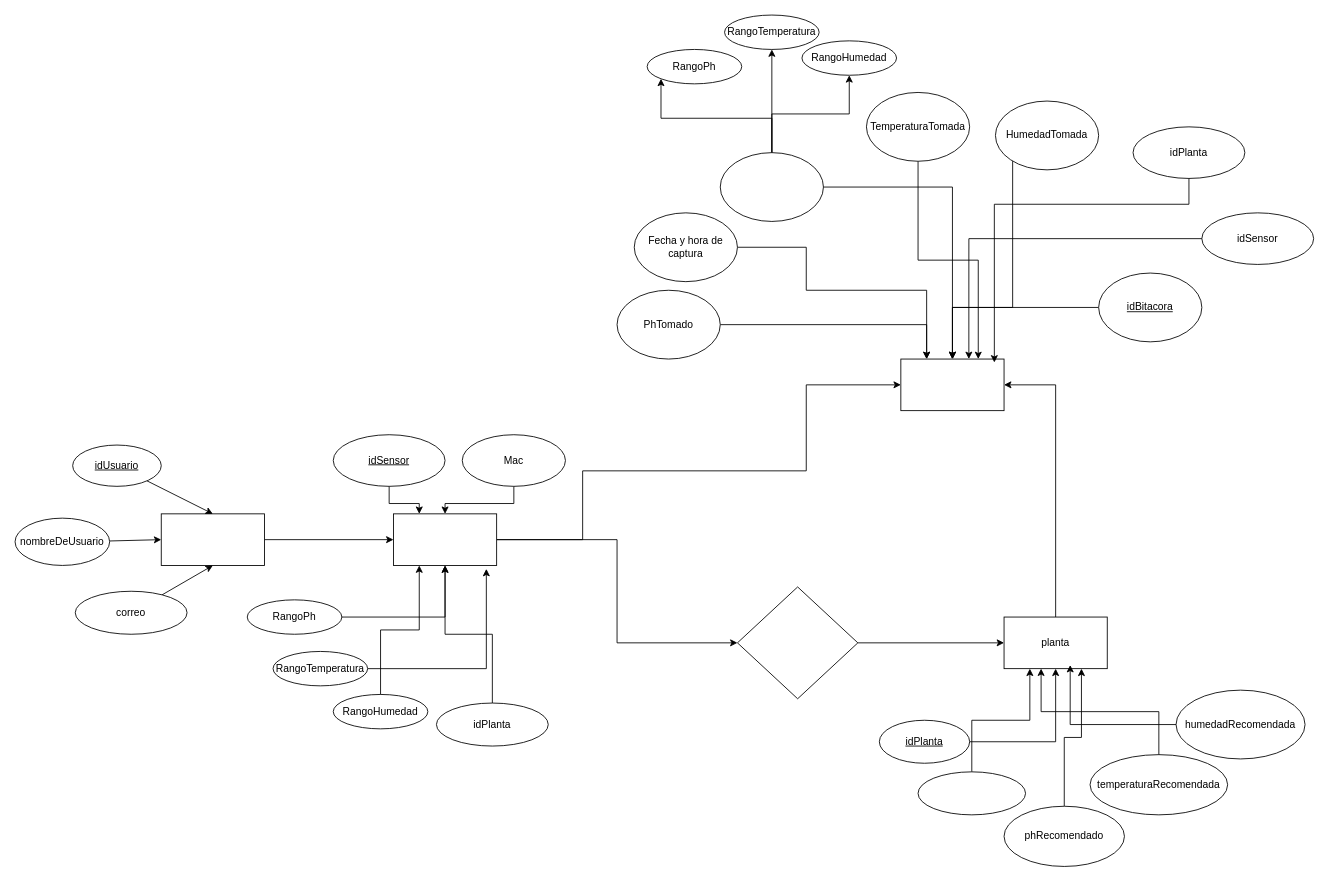
The diagram is 1329 pixels wide and 882 high, and some of its shapes have lost their labels. Each missing label, with the centre of its shape:
bitacoraSensor: the point at 952,384
Está monitoreando: the point at 797,642
Limites: the point at 771,186
NombrePlanta: the point at 971,793
sensor: the point at 445,539
usurario: the point at 212,539
